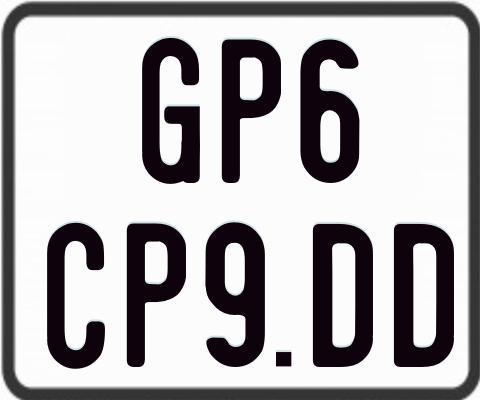6: (297, 38, 359, 187)
9: (204, 220, 268, 371)
C: (45, 222, 103, 374)
D: (313, 222, 379, 370), (392, 222, 456, 367)
G: (140, 38, 201, 185)
P: (221, 36, 281, 183), (124, 223, 184, 367)
